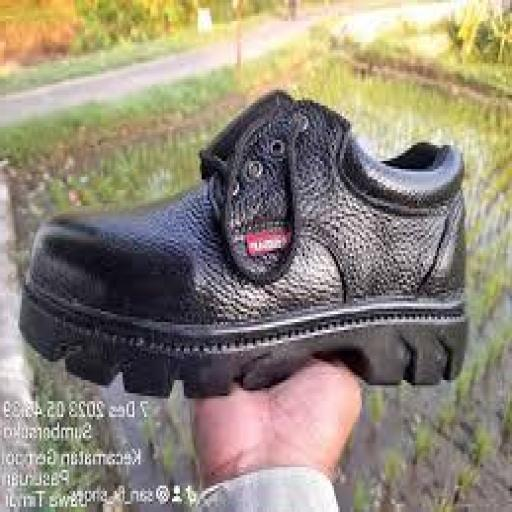safety_boots: (20, 85, 490, 400)
